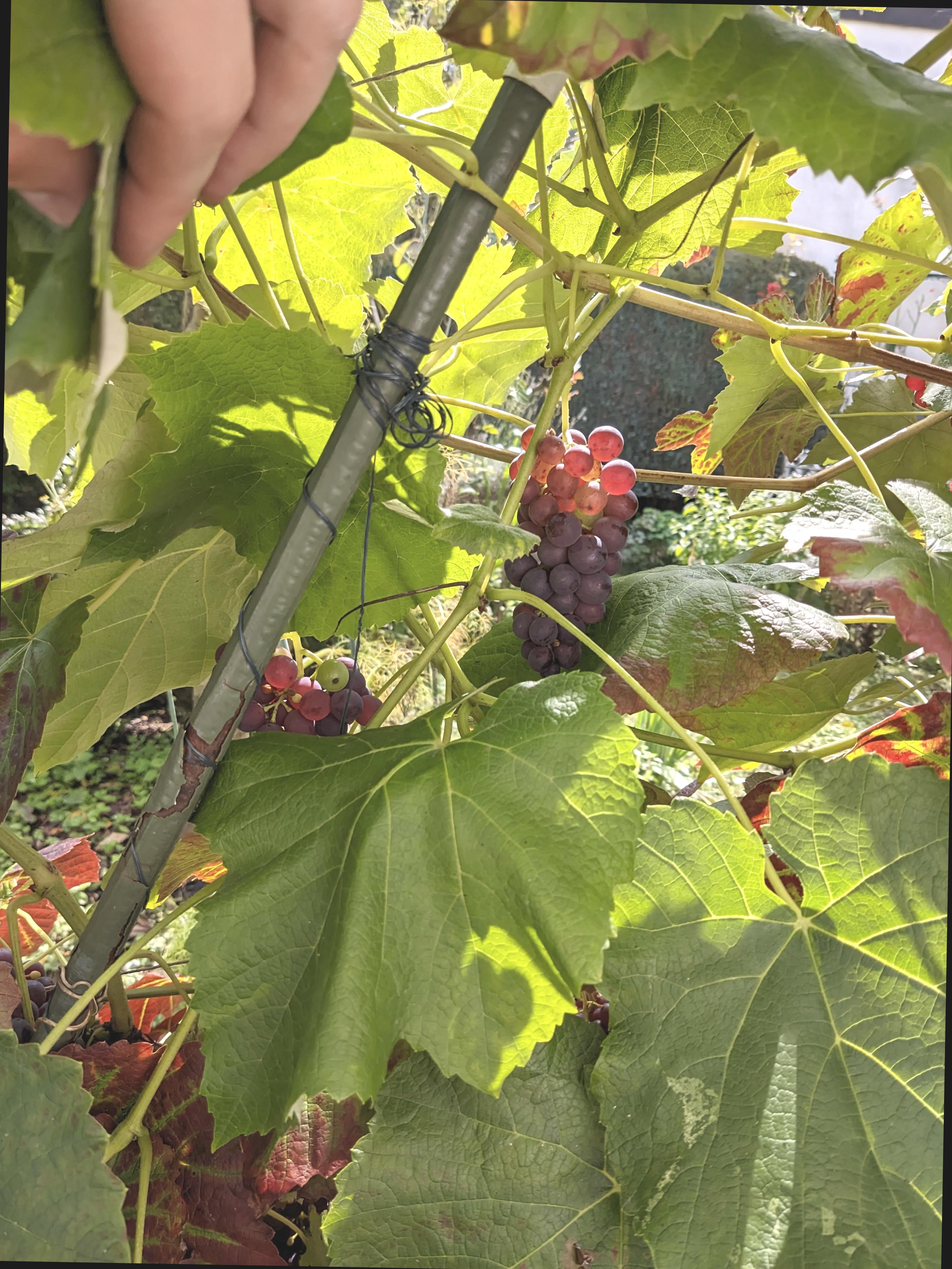Grape Ripe: (516, 414, 651, 668), (218, 631, 396, 737), (3, 941, 71, 1033)
